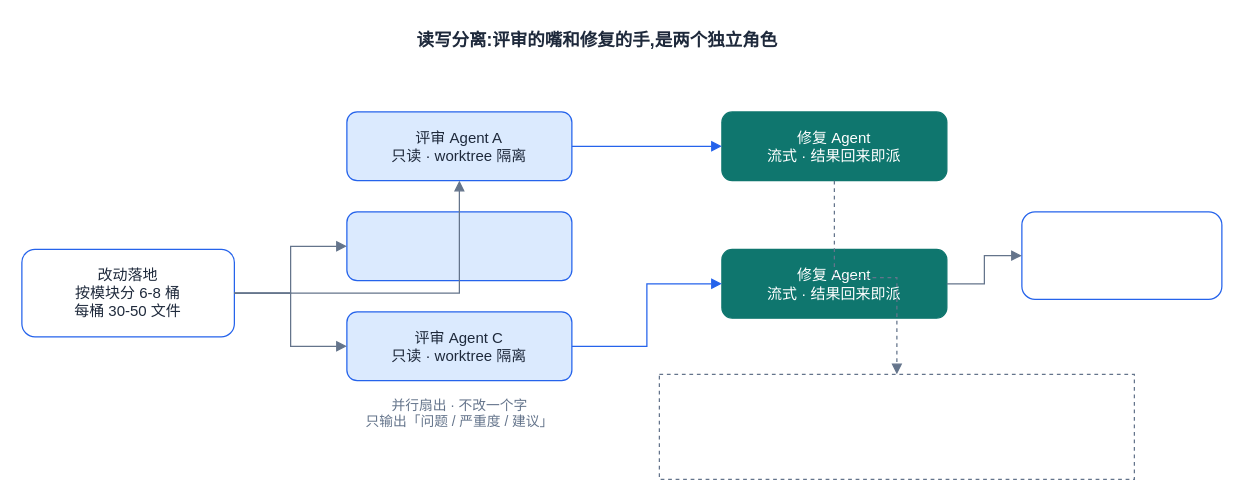
The diagram is 1244 pixels wide and 501 high, and some of its shapes have lost their labels. Here are the shapes that lost their labels. From the top down, the box of each, then its label:
(346, 211, 572, 281): 评审 Agent B 只读 · worktree 隔离
(1021, 211, 1222, 299): 收敛计数器 严重连续 2 轮 + 一般连续 3 轮
(658, 373, 1134, 479): 修复边界 ① blocker 且方案明确 → 直接改 ② major 或多方案 → 给候选,人来定 ③ 业务语义/状态机/金额 → 禁碰,人工介入
